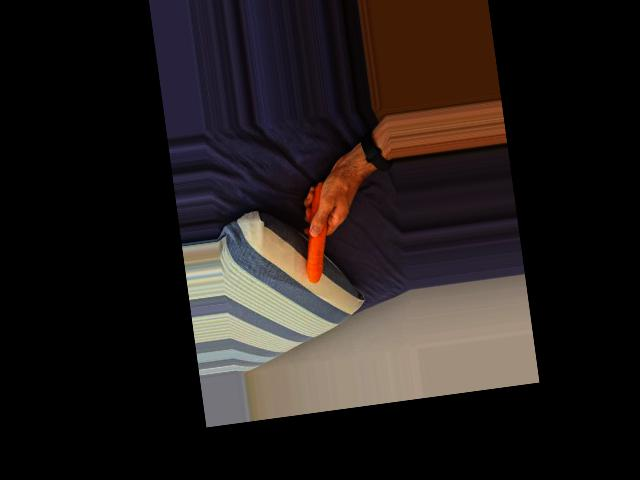carrot: (293, 179, 341, 284)
